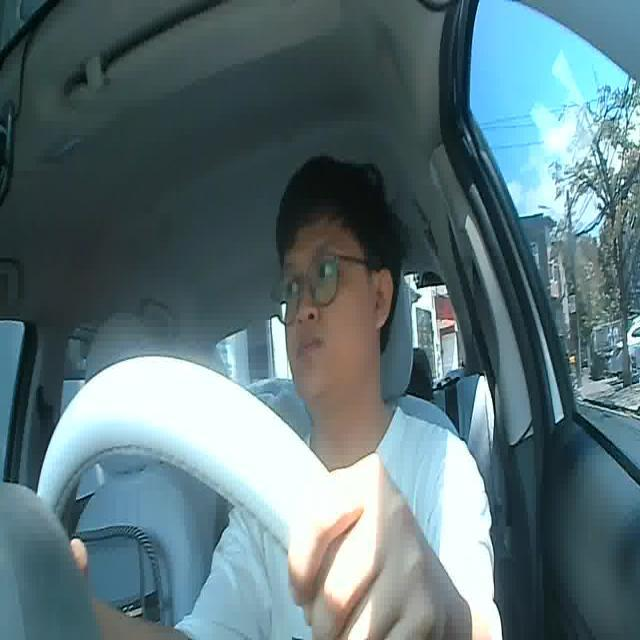Attentive: (276, 151, 408, 410)
Eye-Open: (316, 261, 339, 284), (286, 279, 310, 298)
Normal: (299, 331, 326, 361)
